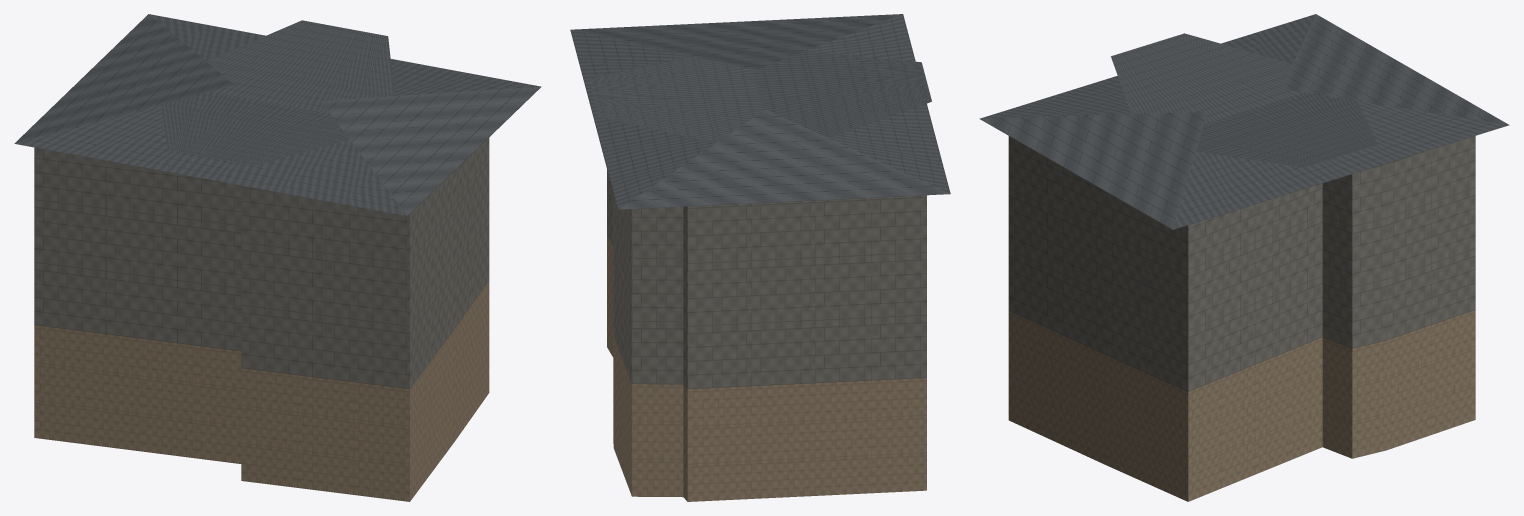
Rendered from bld_c22_-48_536.gltf.
3 views of the same model, side by side, from view 1: azimuth 30°, elevation 25°; view 2: azimuth 150°, elevation 25°; view 3: azimuth 270°, elevation 25° (orthographic). The views are drawn at different scales.
Visible parts, largest first — view 1: bld_c22_-48_536; view 2: bld_c22_-48_536; view 3: bld_c22_-48_536.
Boxes of the visible parts, <box> form: bld_c22_-48_536: <box>14,14,541,501</box>; bld_c22_-48_536: <box>570,14,950,501</box>; bld_c22_-48_536: <box>979,14,1509,501</box>.
Bounding box in the file's own units: 21.49 × 14.6 × 22.31.
Materials: 3 (3 with a texture image).
